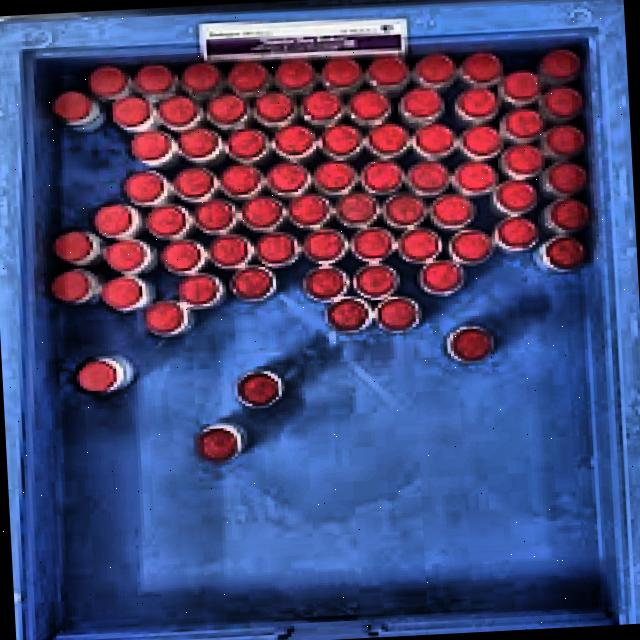vial: (447, 327, 494, 363), (304, 228, 348, 264), (304, 265, 349, 300), (418, 260, 463, 295), (448, 229, 492, 264), (350, 227, 394, 261), (367, 123, 409, 158), (230, 266, 274, 299), (383, 194, 426, 227), (453, 161, 497, 193), (321, 123, 362, 157), (398, 229, 440, 262), (354, 263, 396, 296), (49, 269, 89, 303), (226, 128, 268, 160), (361, 160, 403, 192), (546, 198, 588, 230), (314, 161, 358, 191), (101, 276, 141, 309), (76, 360, 117, 392), (539, 48, 581, 79), (414, 123, 456, 154), (241, 197, 283, 228), (432, 194, 474, 225), (460, 125, 503, 155), (266, 162, 309, 192), (88, 66, 128, 98), (157, 95, 198, 126), (178, 127, 219, 158), (207, 93, 248, 124), (274, 125, 315, 156), (546, 162, 587, 193), (123, 171, 164, 202), (503, 108, 545, 138), (172, 167, 214, 197), (93, 204, 132, 236), (194, 199, 233, 231), (256, 232, 295, 264), (178, 273, 217, 305), (111, 96, 151, 127), (51, 90, 91, 121), (238, 374, 278, 405), (228, 62, 269, 92), (275, 59, 316, 89), (349, 90, 390, 120), (461, 52, 502, 82), (542, 87, 583, 117), (544, 124, 585, 154), (408, 161, 449, 191), (181, 64, 223, 93), (199, 429, 237, 461), (289, 194, 328, 225), (209, 234, 248, 265), (161, 240, 200, 271), (134, 64, 174, 94), (255, 92, 295, 122), (415, 53, 455, 83), (457, 87, 497, 117), (220, 164, 260, 194), (496, 218, 536, 248), (545, 237, 585, 267), (401, 88, 442, 117), (503, 145, 544, 174), (496, 181, 537, 210), (106, 240, 144, 271), (54, 231, 92, 262), (329, 299, 367, 330), (367, 57, 409, 85), (302, 91, 341, 121), (147, 205, 186, 235), (145, 302, 184, 332), (130, 131, 170, 160), (502, 70, 540, 100), (336, 192, 374, 222), (322, 57, 361, 86), (379, 299, 416, 329)
